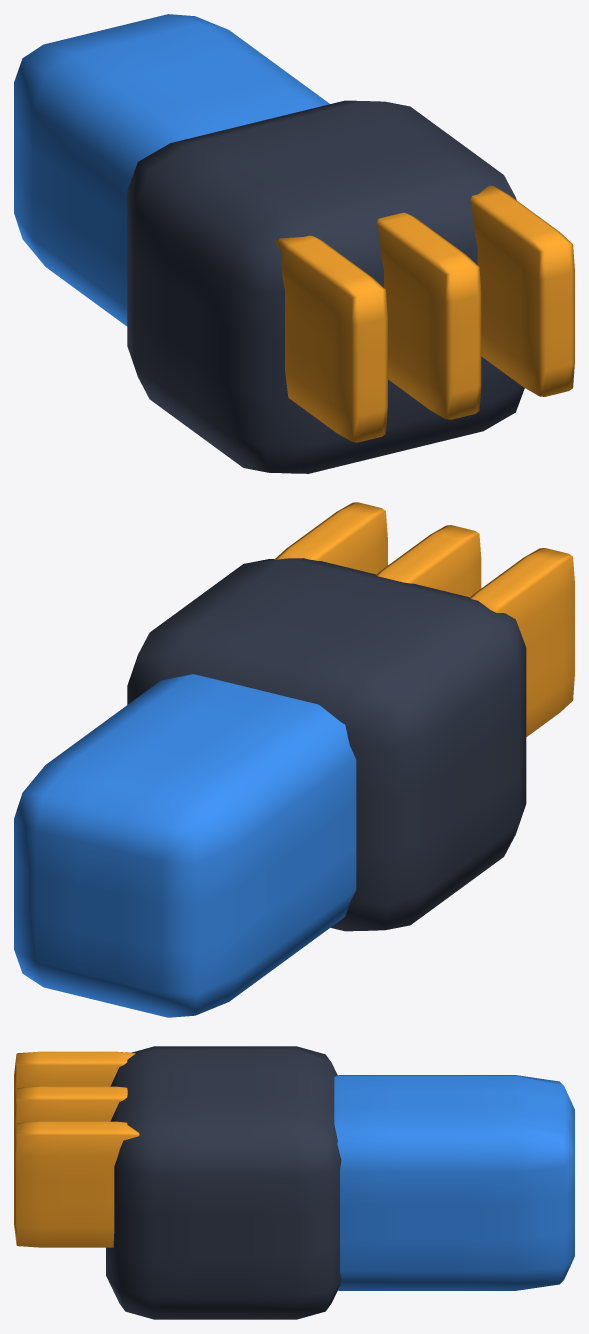
The model's file is glove_plasmaclaw.obj.
3 views of the same model, one above another, from view 1: azimuth 30°, elevation 25°; view 2: azimuth 150°, elevation 25°; view 3: azimuth 270°, elevation 25° (orthographic). The views are drawn at different scales.
Bounding box in the file's own units: 0.28 × 0.24 × 0.61.
